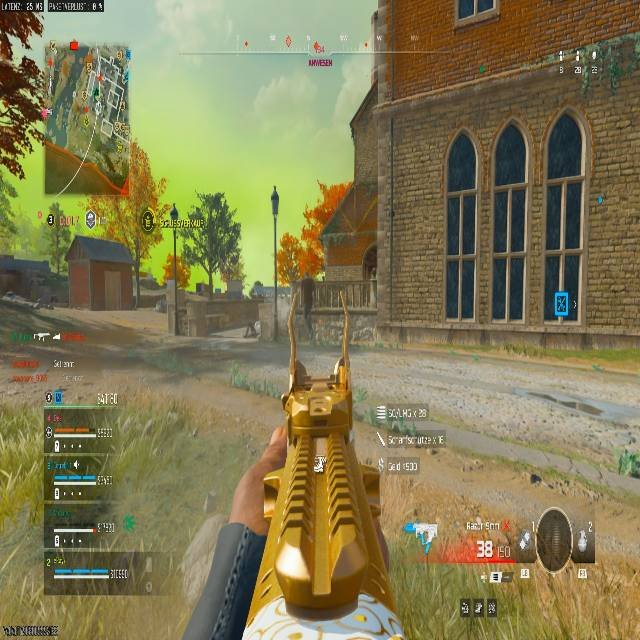player: (363, 242, 377, 278)
